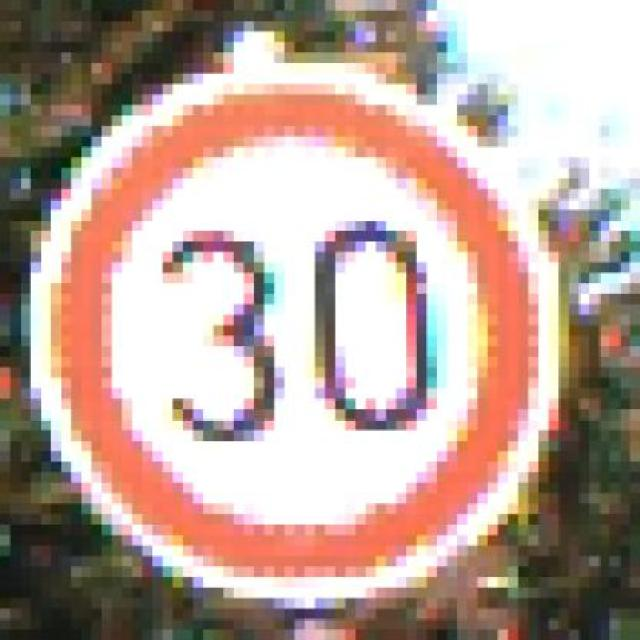Speed Limit 30 KMPh: (31, 42, 589, 629)
